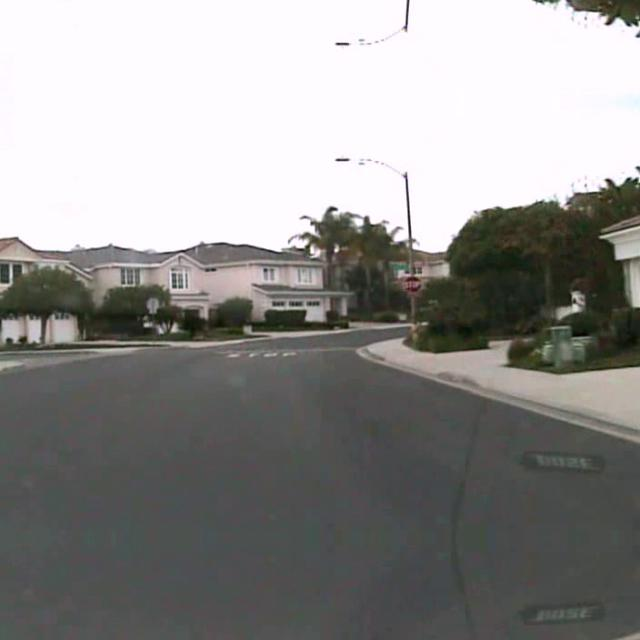stop: (402, 274, 422, 292)
